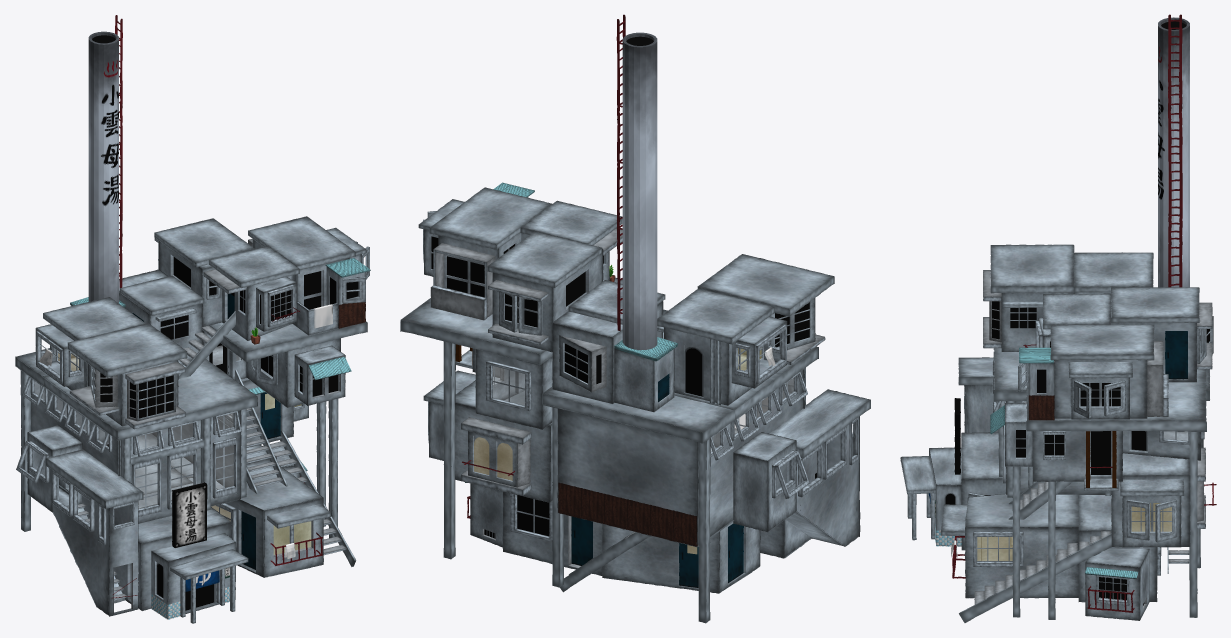
Rendered from kyoju003b.glb.
3 renders of one model, left to right at view 1: azimuth 30°, elevation 25°; view 2: azimuth 150°, elevation 25°; view 3: azimuth 270°, elevation 25°, orthographic. The views are drawn at different scales.
Parts seen in each view (by area): view 1: Cylinder.001, Plane.1250, Plane.1228, Plane.1260, Plane.1331, Plane.1329, Plane.1245, Plane.1302, Plane.1230, Plane.1327, Plane.1332, Plane.1294 (+52 smaller); view 2: Plane.1250, Cylinder.001, Plane.1227, Plane.1247, Plane.1261, Plane.1331, texture.532, Plane.1329, Plane.1263, Plane.1332, Plane.1327, Plane.1289 (+37 smaller); view 3: Plane.1228, Cylinder.001, Plane.1331, Plane.1294, Plane.1264, Plane.1329, Plane.1234, Plane.1268, Plane.1327, Plane.1332, Plane.1225, Plane.1318 (+37 smaller).
Part boxes in pixels (bbox=[...]): Cylinder.001: bbox=[88, 31, 118, 302]; Plane.1250: bbox=[31, 380, 241, 523]; Plane.1228: bbox=[192, 458, 323, 577]; Plane.1260: bbox=[42, 359, 257, 440]; Plane.1331: bbox=[67, 323, 187, 377]; Plane.1329: bbox=[248, 216, 355, 269]; Plane.1245: bbox=[53, 501, 109, 615]; Plane.1302: bbox=[46, 449, 143, 509]; Plane.1230: bbox=[151, 533, 235, 618]; Plane.1327: bbox=[154, 218, 254, 267]; Plane.1332: bbox=[43, 297, 145, 340]; Plane.1294: bbox=[203, 321, 367, 362]; Plane.1250: bbox=[557, 369, 805, 547]; Cylinder.001: bbox=[622, 32, 657, 350]; Plane.1227: bbox=[602, 521, 760, 593]; Plane.1247: bbox=[733, 432, 796, 532]; Plane.1261: bbox=[542, 387, 734, 443]; Plane.1331: bbox=[697, 254, 834, 316]; texture.532: bbox=[558, 482, 697, 546]; Plane.1329: bbox=[429, 187, 551, 249]; Plane.1263: bbox=[475, 349, 552, 429]; Plane.1332: bbox=[657, 288, 774, 344]; Plane.1327: bbox=[487, 231, 602, 287]; Plane.1289: bbox=[492, 249, 603, 352]; Plane.1228: bbox=[964, 494, 1078, 598]; Cylinder.001: bbox=[1158, 17, 1189, 287]; Plane.1331: bbox=[990, 244, 1074, 293]; Plane.1294: bbox=[1026, 369, 1206, 431]; Plane.1264: bbox=[1032, 431, 1122, 481]; Plane.1329: bbox=[1050, 324, 1154, 360]; Plane.1234: bbox=[1111, 453, 1190, 547]; Plane.1268: bbox=[1085, 548, 1149, 620]; Plane.1327: bbox=[1111, 287, 1199, 322]; Plane.1332: bbox=[1074, 252, 1153, 292]; Plane.1225: bbox=[961, 432, 1005, 550]; Plane.1318: bbox=[1168, 14, 1182, 287].
Size of the model in its own units: 1.74 by 2.53 by 1.34.
Materials: 5 (2 with a texture image).
